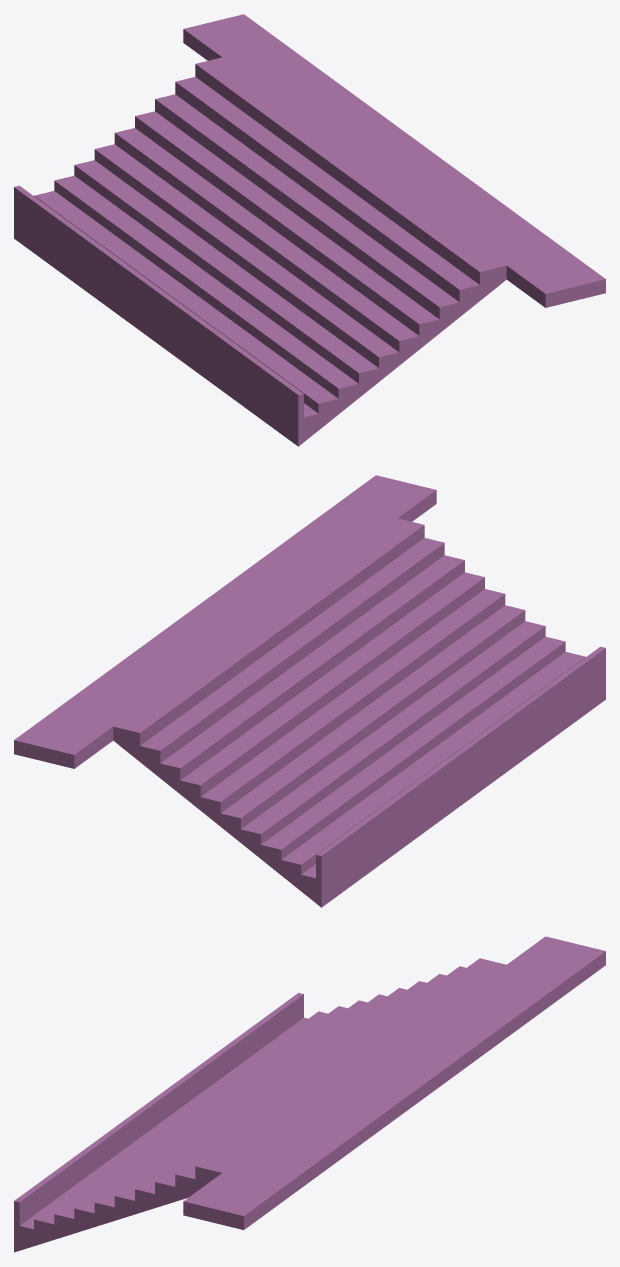
Rendered from SM_Theater_Main_Balcony.fbx.
3 renders of one model, top to bottom at view 1: azimuth 30°, elevation 25°; view 2: azimuth 150°, elevation 25°; view 3: azimuth 330°, elevation 25°, orthographic.
Parts seen in each view (by area): view 1: SM_Theater_Main_Balcony; view 2: SM_Theater_Main_Balcony; view 3: SM_Theater_Main_Balcony.
Part boxes in pixels (box(x1,y1,x2,y2)): SM_Theater_Main_Balcony: box(14, 14, 605, 446); SM_Theater_Main_Balcony: box(14, 475, 605, 907); SM_Theater_Main_Balcony: box(14, 936, 605, 1252).
Bounding box in the file's own units: 1200 × 557 × 2800.
